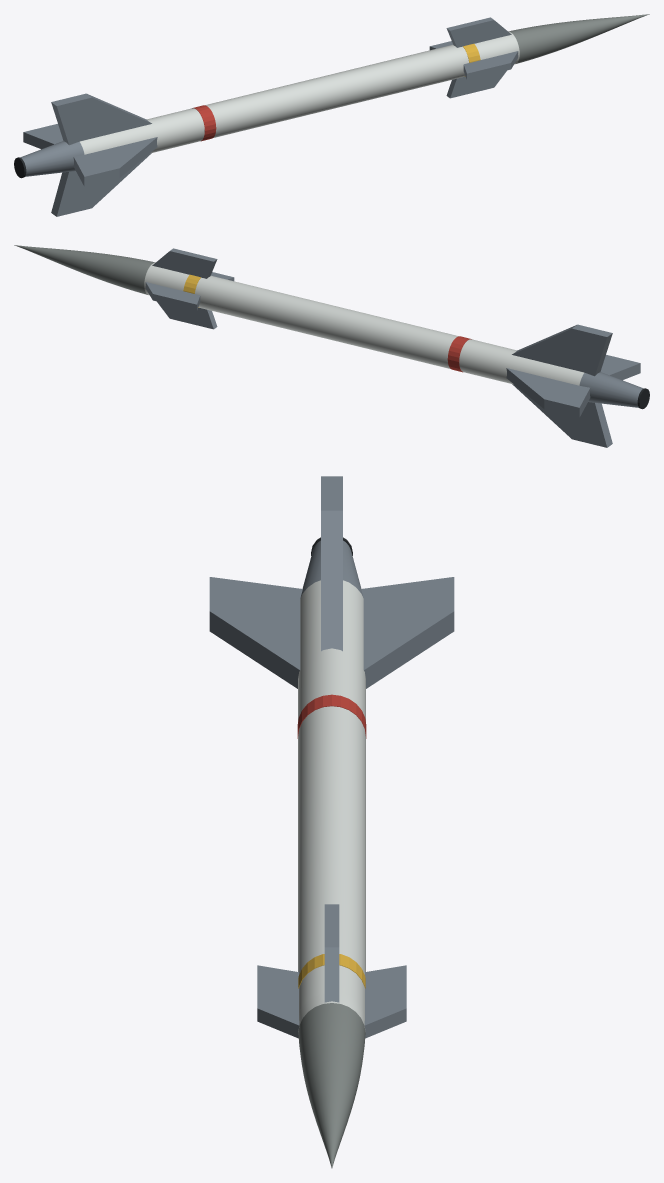
File: aim9x_air.glb
3 views of the same model, one above another, from view 1: azimuth 30°, elevation 25°; view 2: azimuth 150°, elevation 25°; view 3: azimuth 270°, elevation 25° (orthographic). The views are drawn at different scales.
Visible parts, largest first — view 1: missile_body, titanium, seeker, hazard_red; view 2: missile_body, titanium, seeker, hazard_red; view 3: titanium, missile_body, seeker.
Part boxes in pixels (x1=…): missile_body: x1=80, y1=31, x2=519, y2=154; titanium: x1=20, y1=17, x2=518, y2=216; seeker: x1=508, y1=14, x2=649, y2=63; hazard_red: x1=192, y1=105, x2=216, y2=141; missile_body: x1=144, y1=262, x2=583, y2=385; titanium: x1=145, y1=248, x2=643, y2=447; seeker: x1=14, y1=245, x2=155, y2=294; hazard_red: x1=447, y1=336, x2=471, y2=372; titanium: x1=209, y1=476, x2=454, y2=1038; missile_body: x1=298, y1=580, x2=365, y2=1031; seeker: x1=298, y1=1003, x2=365, y2=1168.
Size of the model in its own units: 10 by 1.68 by 1.68.
